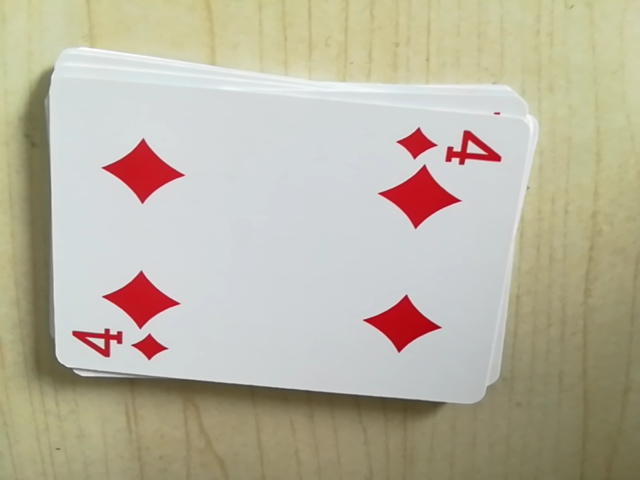fk 4: (390, 115, 510, 170), (56, 321, 177, 370)
